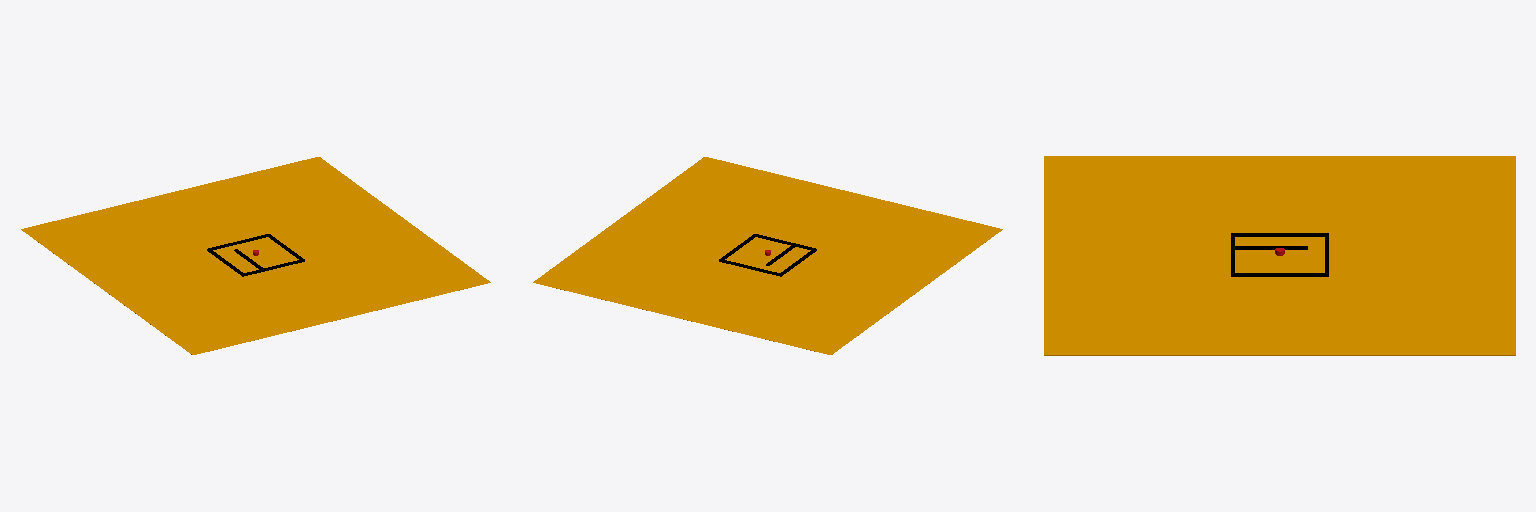
URDF robot description (robot):
<?xml version="1.0" encoding="utf-8"?>

<robot name="robot">

    <material name="black">
        <color rgba="0 0 0 1"/>
    </material>
    <material name="red">
        <color rgba="0.8 0.1 0.1 1"/>
    </material>
    <material name="green">
        <color rgba="0.1 0.9 0.1 1"/>
    </material>
    <material name="white">
        <color rgba="1 1 1 1"/>
    </material>

    <link name="base_link">
        <origin rpy="0.0 0.0 0.0" xyz="0 0 0.00"/>
        <visual>
            <!-- <origin rpy="0.0 0.0 0.0" xyz="0.0 0.0 0.0"/> -->
            <geometry>
                <box size="5 5 0.001"/>
            </geometry>
        </visual>
    </link>

    <!-- <link name="maze">
        <visual>
            <origin rpy="0.0 0.0 0.0" xyz="0.0 0.0 0.0"/>
            <geometry>
                <mesh filename="package://maze/urdf/meshes/maze.stl"/>
            </geometry>
        </visual>
        <collision>
            <origin rpy="0.0 0.0 0.0" xyz="0.0 0.0 0.0"/>
            <geometry>
                <mesh filename="package://maze/urdf/meshes/maze.stl"/>
            </geometry>
        </collision>
        <inertial>
            <mass value="10000"/>
            <inertia ixx="100"  ixy="0"  ixz="0" iyy="100" iyz="0" izz="100" />
        </inertial>
    </link> -->

    <link name="wall_left">
        <visual>
            <origin rpy="0.0 0.0 0.0" xyz="0.0 0.0 0.0"/>
            <geometry>
                <box size="0.05 1.05 0.05"/>
            </geometry>
            <material name="black"/>
        </visual>
        <collision>
            <origin rpy="0.0 0.0 0.0" xyz="0.0 0.0 0.0"/>
            <geometry>
                <box size="0.05 1 0.15"/>
            </geometry>
        </collision>
        <inertial>
            <mass value="10000"/>
            <inertia ixx="100"  ixy="0"  ixz="0" iyy="100" iyz="0" izz="100" />
        </inertial>
    </link>

    <joint name="base_to_wall_left" type="fixed">
        <parent link="base_link"/>
        <child link="wall_left"/>
        <origin rpy="0 0 0" xyz="-0.5 0 0"/>
    </joint>


    <link name="wall_right">
        <visual>
            <origin rpy="0.0 0.0 0.0" xyz="0.0 0.0 0.0"/>
            <geometry>
                <box size="0.05 1.05 0.05"/>
            </geometry>
            <material name="black"/>
        </visual>
        <collision>
            <origin rpy="0.0 0.0 0.0" xyz="0.0 0.0 0.0"/>
            <geometry>
                <box size="0.05 1 0.15"/>
            </geometry>
        </collision>
        <inertial>
            <mass value="10000"/>
            <inertia ixx="100"  ixy="0"  ixz="0" iyy="100" iyz="0" izz="100" />
        </inertial>
    </link>

    <joint name="base_to_wall_right" type="fixed">
        <parent link="base_link"/>
        <child link="wall_right"/>
        <origin rpy="0 0 0" xyz="0.5 0 0"/>
    </joint>


     <link name="wall_top">
        <visual>
            <origin rpy="0.0 0.0 0.0" xyz="0.0 0.0 0.0"/>
            <geometry>
                <box size="1.0 0.05 0.05"/>
            </geometry>
            <material name="black"/>
        </visual>
        <collision>
            <origin rpy="0.0 0.0 0.0" xyz="0.0 0.0 0.0"/>
            <geometry>
                <box size="1.0 0.05 0.15"/>
            </geometry>
        </collision>
        <inertial>
            <mass value="10000"/>
            <inertia ixx="100"  ixy="0"  ixz="0" iyy="100" iyz="0" izz="100" />
        </inertial>
    </link>

    <joint name="base_to_wall_top" type="fixed">
        <parent link="base_link"/>
        <child link="wall_top"/>
        <origin rpy="0 0 0" xyz="0 0.5 0"/>
    </joint>

    <link name="wall_bottom">
        <visual>
            <origin rpy="0.0 0.0 0.0" xyz="0.0 0.0 0.0"/>
            <geometry>
                <box size="1.0 0.05 0.05"/>
            </geometry>
            <material name="black"/>
        </visual>
        <collision>
            <origin rpy="0.0 0.0 0.0" xyz="0.0 0.0 0.0"/>
            <geometry>
                <box size="1.0 0.05 0.15"/>
            </geometry>
        </collision>
        <inertial>
            <mass value="10000"/>
            <inertia ixx="100"  ixy="0"  ixz="0" iyy="100" iyz="0" izz="100" />
        </inertial>
    </link>

    <joint name="base_to_wall_bottom" type="fixed">
        <parent link="base_link"/>
        <child link="wall_bottom"/>
        <origin rpy="0 0 0" xyz="0 -0.5 0"/>
    </joint>


    <link name="obs_left">
        <visual>
            <origin rpy="0.0 0.0 0.0" xyz="0.0 0.0 0.0"/>
            <geometry>
                <box size="0.05 0.8 0.05"/>
            </geometry>
            <material name="black"/>
        </visual>
        <collision>
            <origin rpy="0.0 0.0 0.0" xyz="0.0 0.0 0.0"/>
            <geometry>
                <box size="0.05 0.80 0.15"/>
            </geometry>
        </collision>
        <inertial>
            <mass value="10000"/>
            <inertia ixx="100"  ixy="0"  ixz="0" iyy="100" iyz="0" izz="100" />
        </inertial>
    </link>

    <joint name="base_to_obs_left" type="fixed">
        <parent link="base_link"/>
        <child link="obs_left"/>
        <origin rpy="0 0 0" xyz="-0.16666 -0.1 0"/>
    </joint>

    <!-- <link name="obs_right">
        <visual>
            <origin rpy="0.0 0.0 0.0" xyz="0.0 0.0 0.0"/>
            <geometry>
                <box size="0.05 0.8 0.05"/>
            </geometry>
            <material name="black"/>
        </visual>
        <collision>
            <origin rpy="0.0 0.0 0.0" xyz="0.0 0.0 0.0"/>
            <geometry>
                <box size="0.05 0.80 0.15"/>
            </geometry>
        </collision>
        <inertial>
            <mass value="10000"/>
            <inertia ixx="100"  ixy="0"  ixz="0" iyy="100" iyz="0" izz="100" />
        </inertial>
    </link>

    <joint name="base_to_obs_right" type="fixed">
        <parent link="base_link"/>
        <child link="obs_right"/>
        <origin rpy="0 0 0" xyz="0.16666 0.1 0"/>
    </joint> -->

    <link name="bot_x">
        <origin rpy="0.0 0.0 0.0" xyz="0.0 0.0 0.0"/>
    </link>

    <link name="bot">
        <visual>
            <origin rpy="0.0 0.0 0.0" xyz="0 0 0.03"/>
            <geometry>
                <cylinder radius="0.05" length="0.05"/>
            </geometry>
            <material name="red"/>
        </visual>
        <collision>
            <origin rpy="0.0 0.0 0.0" xyz="0 0 0.03"/>
            <geometry>
                <cylinder radius="0.02" length="0.05"/>
            </geometry>
        </collision>
        <inertial>
            <origin xyz="0 0 0" rpy="0 0 0"/>
            <mass value="0.2"/>
        </inertial>
    </link>

    <joint name="base_to_bot_x" type="prismatic">
        <parent link="base_link"/>
        <child link="bot_x"/>
        <origin rpy="0 0 0" xyz="0 0 0.01"/>
        <axis xyz="1 0 0"/>
        <limit lower="-0.4" upper="0.4"/>
    </joint>

    <joint name="bot_x_to_bot" type="prismatic">
        <parent link="bot_x"/>
        <child link="bot"/>
        <origin rpy="0 0 0" xyz="0 0 0.01"/>
        <axis xyz="0 1 0"/>
        <limit lower="-0.4" upper="0.4"/>
    </joint>

    <!-- <link name="goal">
        <visual>
            <origin rpy="0.0 0.0 0.0" xyz="0 0 0.03"/>
            <geometry>
                <cylinder radius="0.05" length="0.05"/>
            </geometry>
            <material name="green"/>
        </visual>
    </link>


    <joint name="base_to_goal" type="fixed">
        <parent link="base_link"/>
        <child link="goal"/>
        <origin rpy="0 0 0" xyz="0.35 -0.4 0.01"/>
        <axis xyz="0 1 0"/>
    </joint> -->

</robot>

--- Facts derived from the render (not from the file) ---
The picture shows the robot from 3 angles, left to right: view 1: azimuth 30°, elevation 25°; view 2: azimuth 150°, elevation 25°; view 3: azimuth 270°, elevation 25°; orthographic projection.
Robot: robot — 8 links, 7 joints (2 prismatic, 5 fixed); root link base_link; default pose: every joint at zero.
Links seen in each view (by area): view 1: base_link; view 2: base_link; view 3: base_link.
Boxes of the visible links, x1=… form: base_link: x1=21, y1=157, x2=490, y2=354; base_link: x1=533, y1=157, x2=1002, y2=354; base_link: x1=1044, y1=156, x2=1515, y2=355.
Bounding box of the posed robot: 5 × 5 × 0.1 m (x, y, z).
Geometry: primitives only (box / cylinder / sphere), no mesh files.